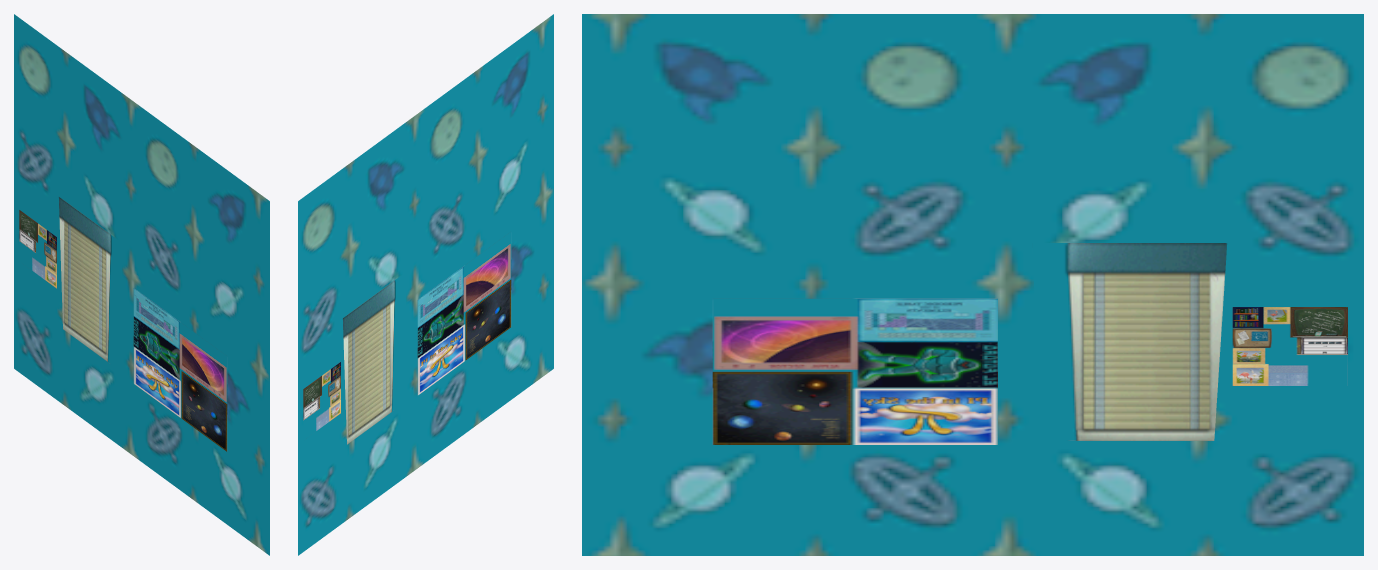
The model's file is jwall temp.glb.
3 renders of one model, left to right at view 1: azimuth 30°, elevation 25°; view 2: azimuth 150°, elevation 25°; view 3: azimuth 270°, elevation 25°, orthographic. The views are drawn at different scales.
Parts seen in each view (by area): view 1: jwall temp; view 2: jwall temp; view 3: jwall temp.
Boxes of the visible parts, <box> form: jwall temp: <box>14,14,269,555</box>; jwall temp: <box>298,14,553,555</box>; jwall temp: <box>582,14,1363,555</box>.
Size of the model in its own units: 0.0001 by 917 by 1198.
Materials: 4 (4 with a texture image).
